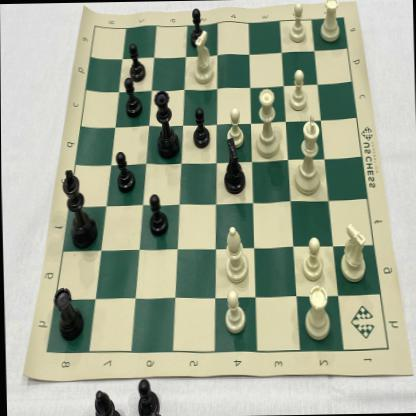black-king: (61, 162, 98, 250)
black-knight: (220, 136, 248, 196)
black-pawn: (144, 188, 170, 239), (114, 148, 137, 197), (190, 103, 212, 152), (121, 76, 144, 118), (127, 40, 148, 83), (187, 7, 207, 49)
black-queen: (150, 85, 181, 161)
black-rook: (51, 281, 87, 344)
white-bishop: (222, 225, 250, 284)
white-king: (291, 112, 324, 197)
white-knight: (335, 222, 370, 284), (191, 27, 215, 88)
white-pawn: (299, 235, 326, 284), (221, 288, 248, 336), (285, 0, 309, 46), (224, 105, 246, 149), (287, 68, 309, 112)
white-queen: (251, 84, 280, 160)
white-rook: (302, 284, 331, 342), (316, 0, 344, 46)
